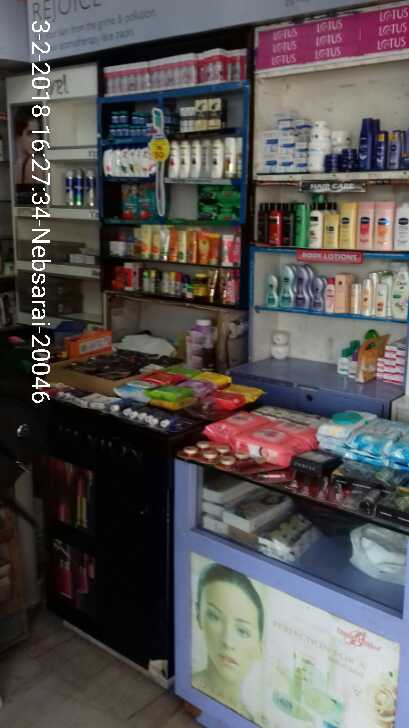vicks: (106, 104, 156, 140)
